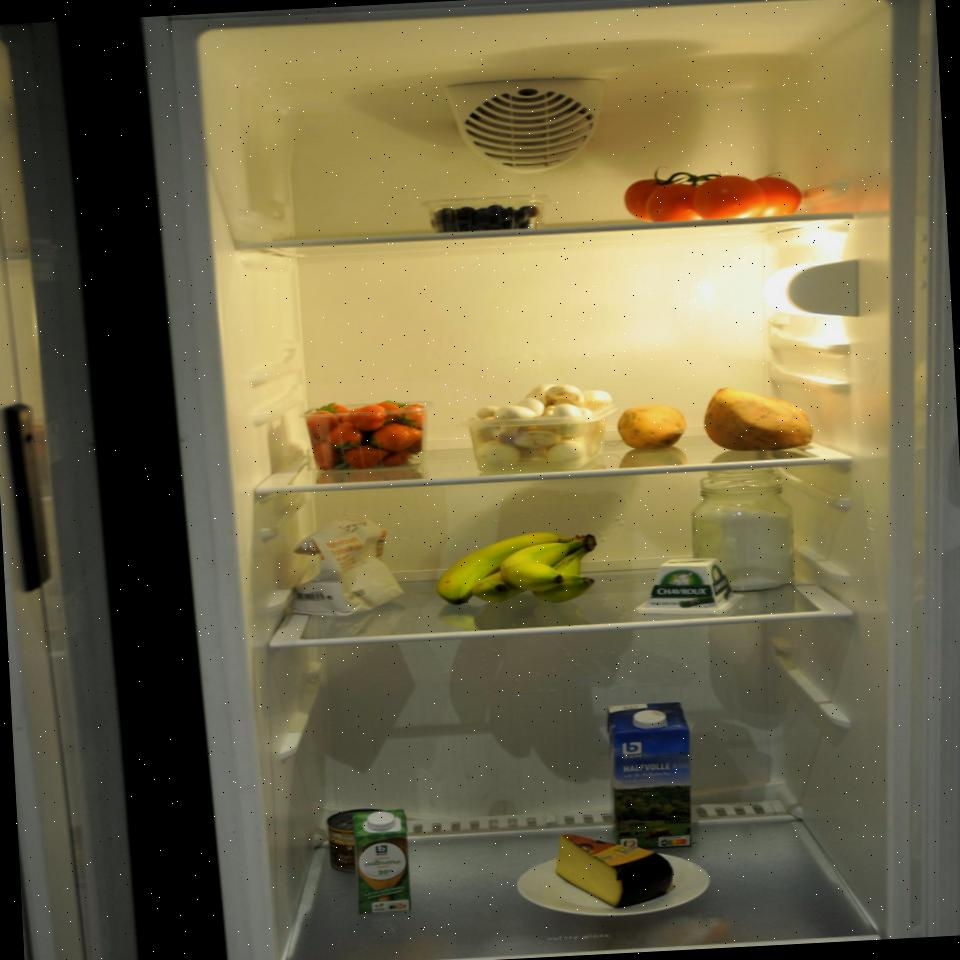Leche: (603, 699, 702, 856)
Plátano: (434, 526, 606, 610)
Queso: (548, 824, 680, 915)
Tomate: (620, 158, 814, 229)
